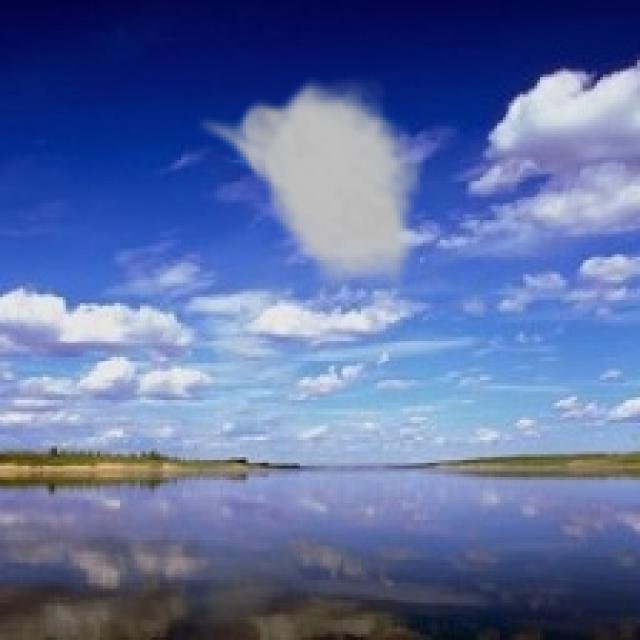Smoke: (194, 74, 426, 297)
